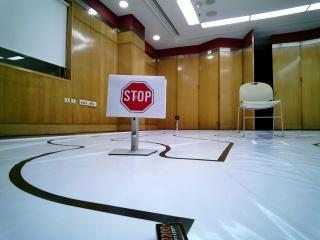stop: (111, 74, 166, 121)
